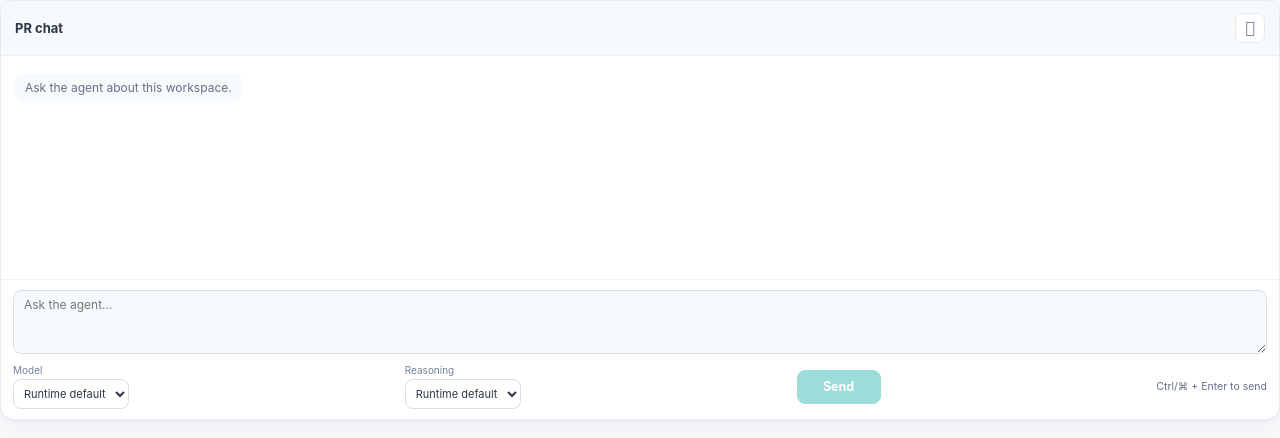
Test case: AgentChatPanel runtime command composer › shows a clear empty state when the runtime has no commands
The image size is (1280, 438).
Type "/" into the text box named "Message the agent" at (640, 322), box [13, 290, 1267, 354]
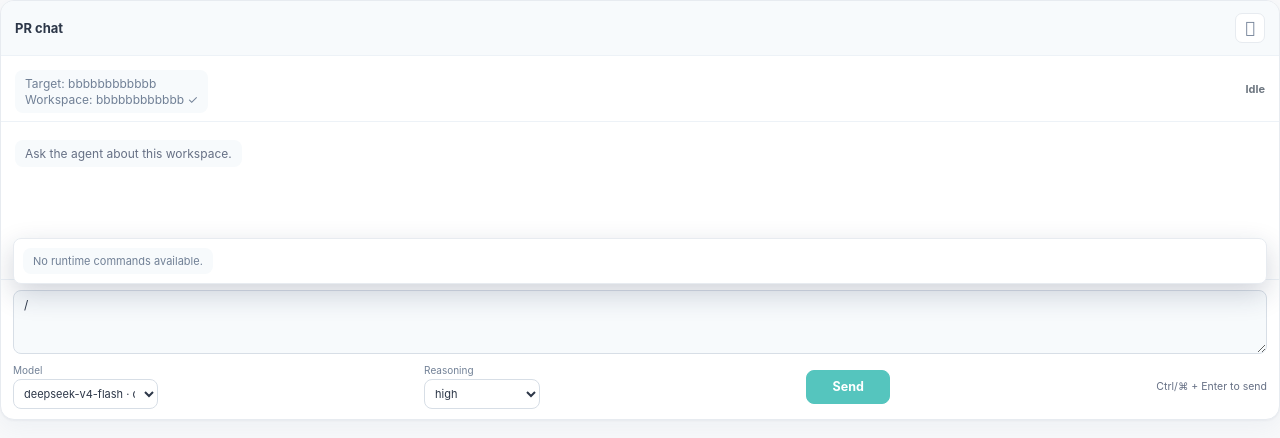
Expected: the text "No runtime commands available." is shown, [23, 248, 213, 274]
